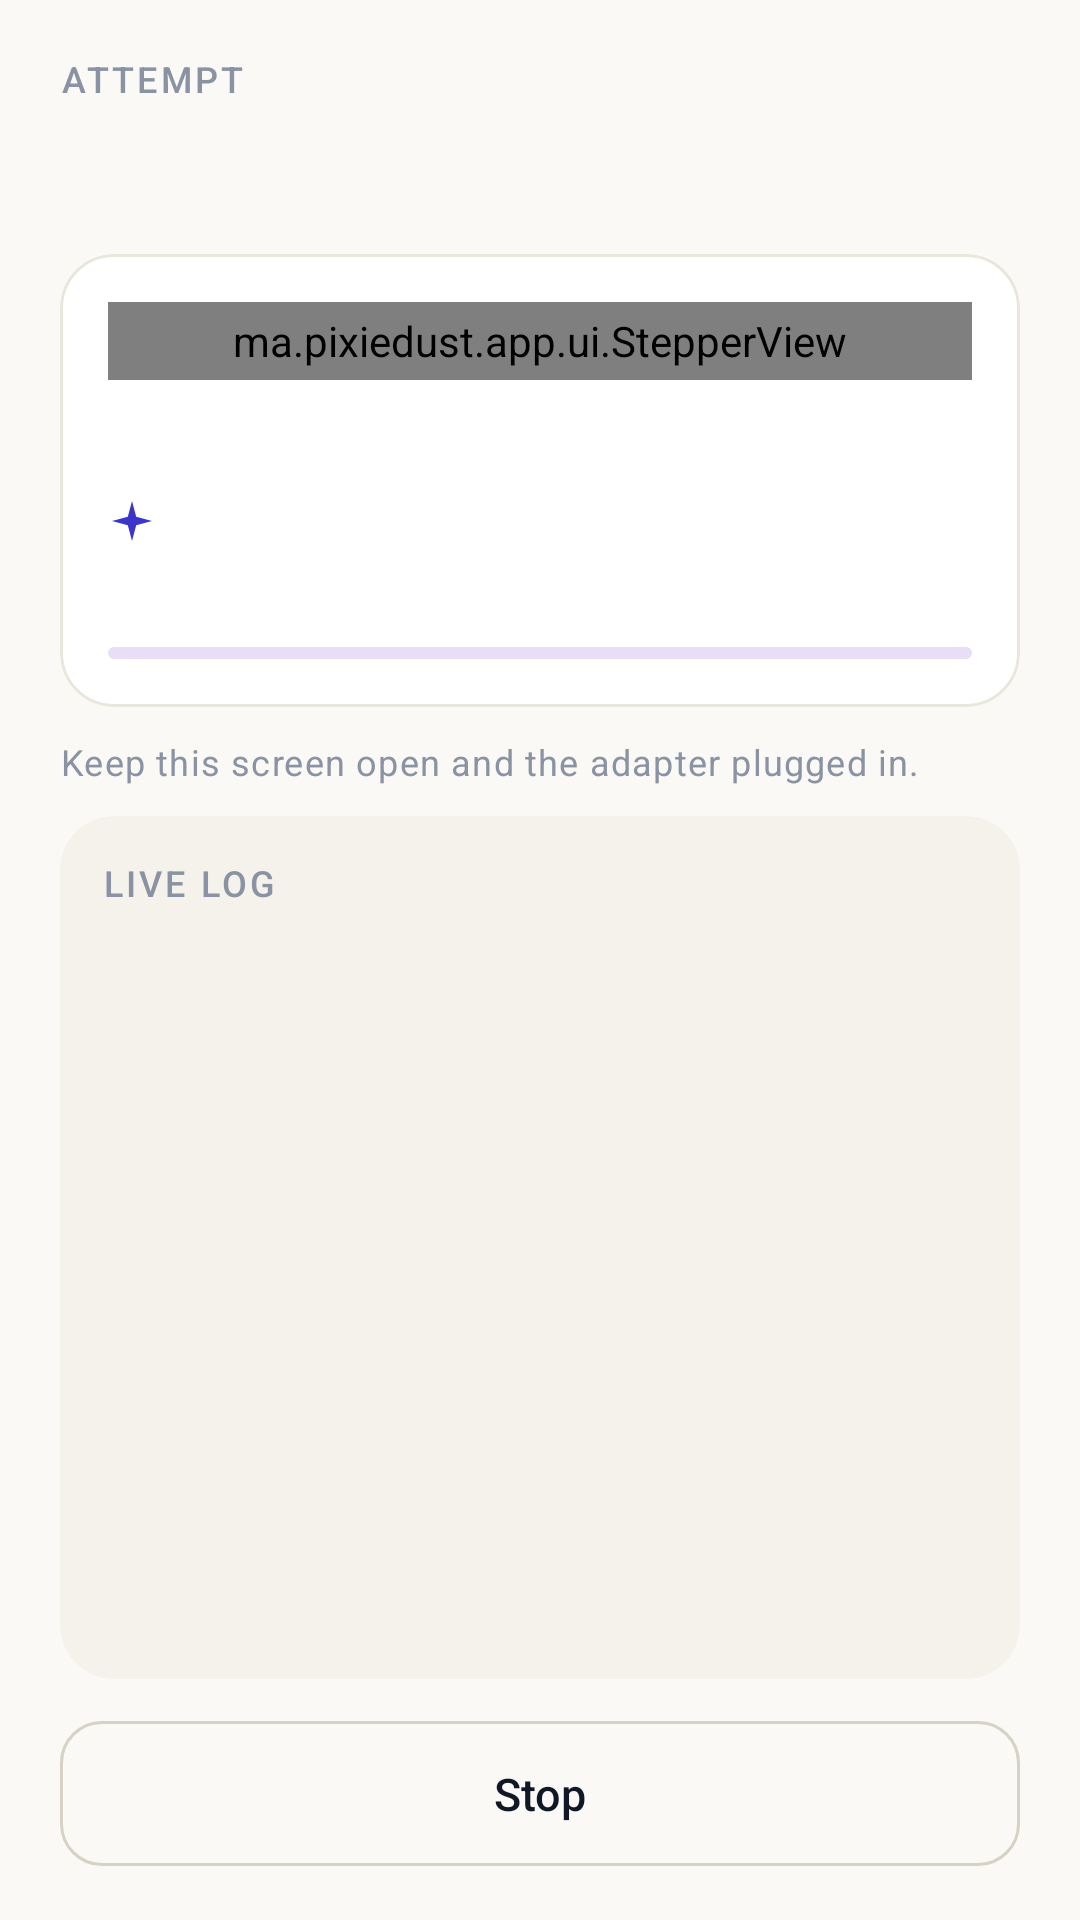

Screen size 1080 × 1920. Icon name, then its box in pixels as [x1,y1,x2,y2]:
spark: [112,501,152,541]
